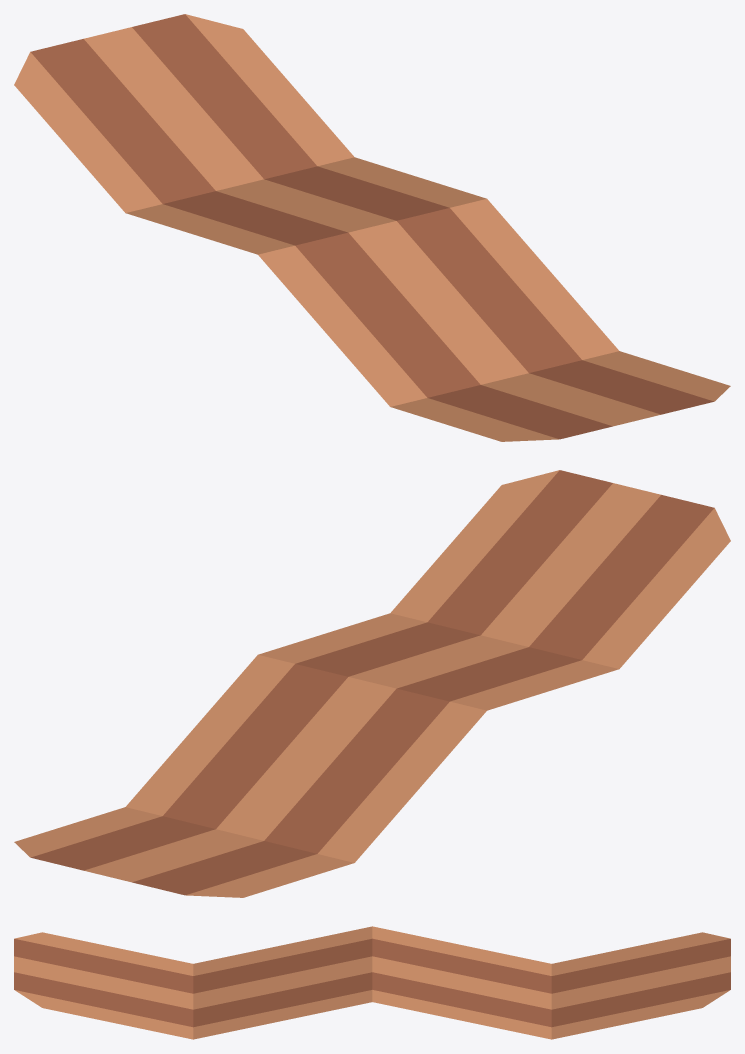
File: bacon.obj
The picture shows the model from 3 angles, top to bottom: view 1: azimuth 30°, elevation 25°; view 2: azimuth 150°, elevation 25°; view 3: azimuth 270°, elevation 25°; orthographic projection. The views are drawn at different scales.
Parts seen in each view (by area): view 1: bacon; view 2: bacon; view 3: bacon.
Part boxes in pixels (x1=…): bacon: x1=14, y1=14, x2=730, y2=441; bacon: x1=14, y1=470, x2=730, y2=897; bacon: x1=14, y1=926, x2=730, y2=1039.
Bounding box in the file's own units: 0.13 × 0.03 × 0.52.
